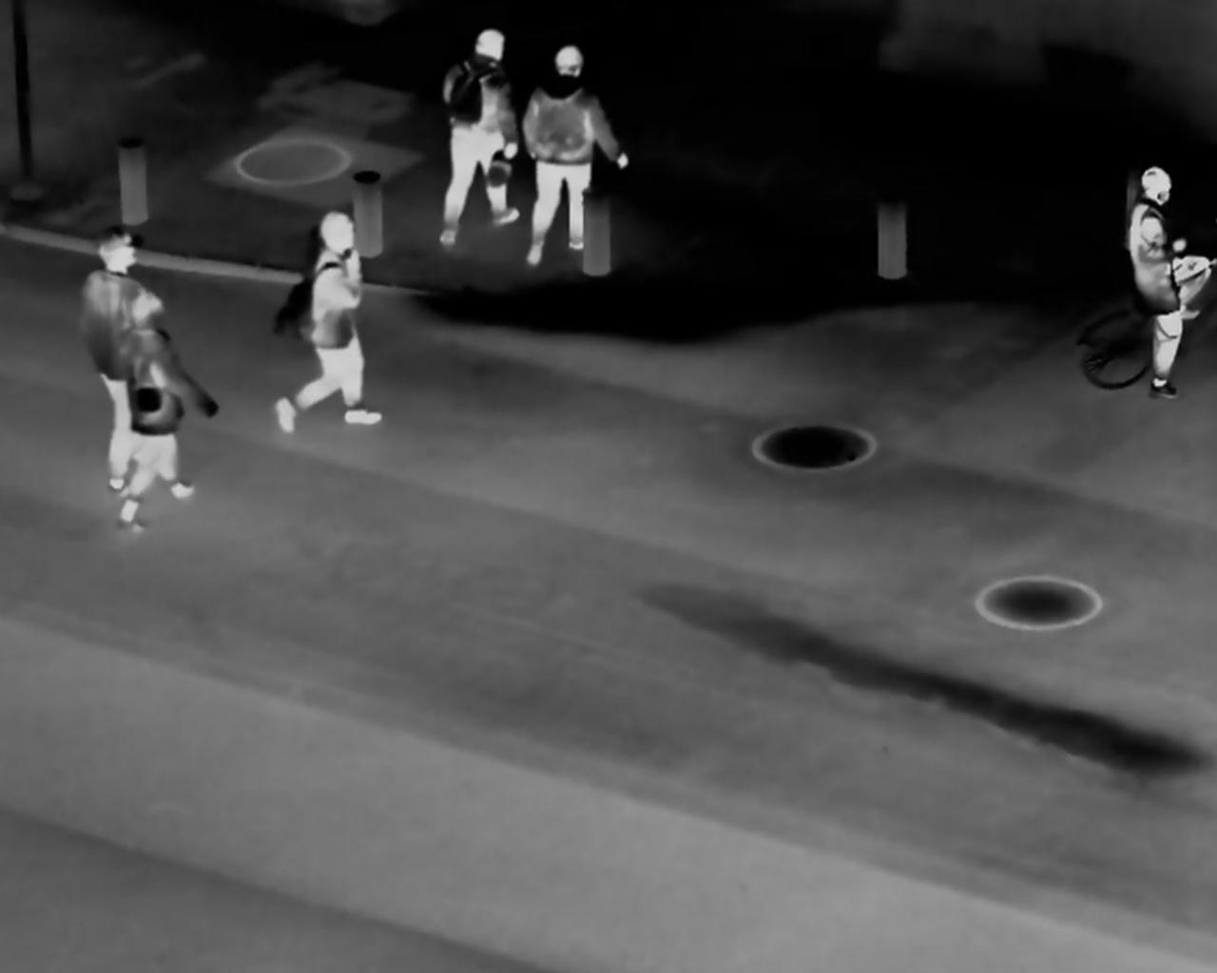person: (275, 206, 396, 440), (1111, 162, 1215, 410), (113, 291, 213, 541), (517, 30, 617, 277), (81, 223, 154, 501), (435, 26, 522, 253)
